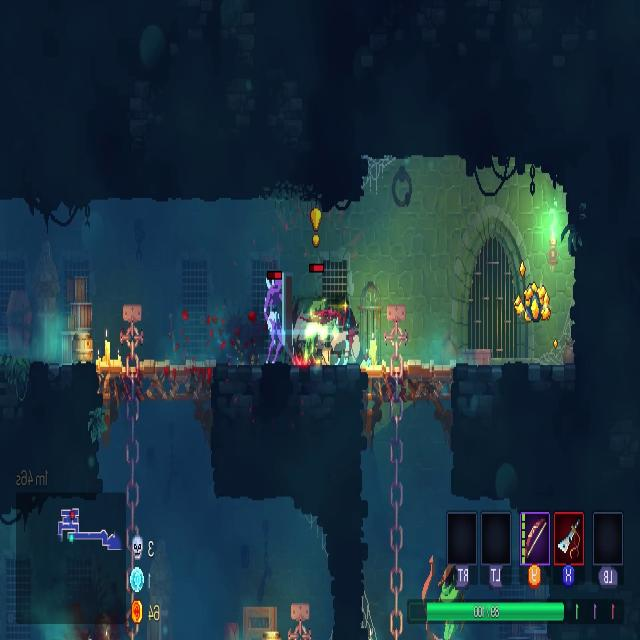agents: (329, 300, 362, 368)
enemy_purple_shield: (263, 273, 293, 367)
wood_floor: (96, 351, 212, 402), (363, 361, 452, 410)
